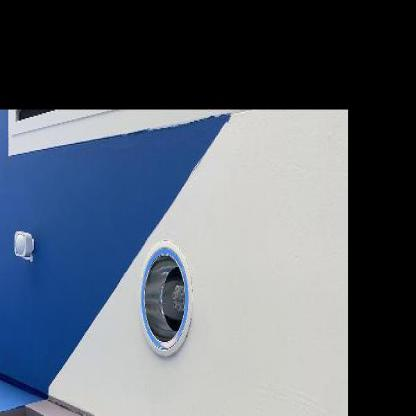light_off: (138, 217, 202, 367)
